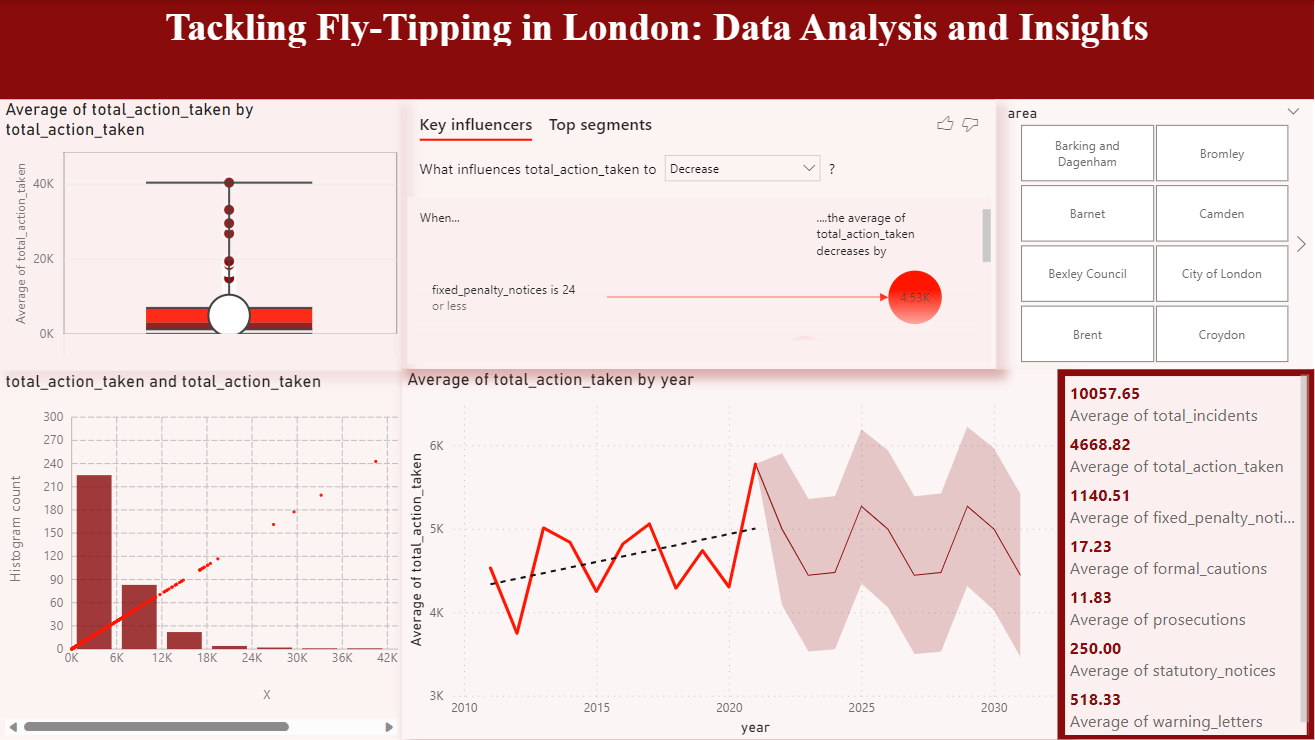

The page's visual inventory and layout, read from the dashboard file:
{"tool":"powerbi","page":{"name":"Dashboard","canvas":[1280,720],"ordinal":0},"visuals":[{"type":"BoxandWhiskerByMAQ1823AD39DT234AB532063E128AX","fields":{"measure":["Avg(fly-tipping-borough (2).total_action_taken)"],"category":["fly-tipping-borough (2).total_action_taken"]},"box":[0,96.4,391.4,264.3],"z":1000},{"type":"histogramXY6E3D5691159E41859A007A262D4B0E9E","fields":{"xAxis":["fly-tipping-borough (2).total_action_taken"],"yAxis":["fly-tipping-borough (2).total_action_taken"]},"box":[0,360.7,391.4,359.3],"z":2000},{"type":"lineChart","fields":{"Y":["Avg(fly-tipping-borough (2).total_action_taken)"],"Category":["fly-tipping-borough (2).year"]},"box":[391.4,359.3,645.5,360.7],"z":3000},{"type":"keyDriversVisual","fields":{"Target":["fly-tipping-borough (2).total_action_taken"],"ExplainBy":["fly-tipping-borough (2).total_incidents","fly-tipping-borough (2).prosecutions","fly-tipping-borough (2).statutory_notices","fly-tipping-borough (2).warning_letters","fly-tipping-borough (2).formal_cautions","fly-tipping-borough (2).fixed_penalty_notices"]},"box":[391.4,96.4,578.3,262.9],"z":4000},{"type":"multiRowCard","fields":{"Values":["Avg(fly-tipping-borough (2).total_incidents)","Avg(fly-tipping-borough (2).total_action_taken)","Avg(fly-tipping-borough (2).fixed_penalty_notices)","Avg(fly-tipping-borough (2).formal_cautions)","Avg(fly-tipping-borough (2).prosecutions)","Avg(fly-tipping-borough (2).statutory_notices)","Avg(fly-tipping-borough (2).warning_letters)"]},"box":[1029.6,359.3,249.7,360.7],"z":5000},{"type":"textbox","box":[0,0,1279.4,96.4],"z":6000},{"type":"slicer","fields":{"Values":["fly-tipping-borough (2).area"]},"box":[969,96,310,263],"z":6001}]}

Visuals, with their boxes in screenshot pixels (x1, y1, x2, y2), scaled from the page's 1280x720 canvas onto the 1315x740 screenshot:
BoxandWhiskerByMAQ1823AD39DT234AB532063E128AX - Avg(fly-tipping-borough (2).total_action_taken) x fly-tipping-borough (2).total_action_taken: {"left": 0, "top": 99, "right": 402, "bottom": 371}
histogramXY6E3D5691159E41859A007A262D4B0E9E - fly-tipping-borough (2).total_action_taken x fly-tipping-borough (2).total_action_taken: {"left": 0, "top": 371, "right": 402, "bottom": 739}
lineChart - Avg(fly-tipping-borough (2).total_action_taken) x fly-tipping-borough (2).year: {"left": 402, "top": 369, "right": 1065, "bottom": 739}
keyDriversVisual - fly-tipping-borough (2).total_action_taken x fly-tipping-borough (2).total_incidents: {"left": 402, "top": 99, "right": 996, "bottom": 369}
multiRowCard - Avg(fly-tipping-borough (2).total_incidents) x Avg(fly-tipping-borough (2).total_action_taken): {"left": 1058, "top": 369, "right": 1314, "bottom": 739}
textbox: {"left": 0, "top": 0, "right": 1314, "bottom": 99}
slicer - fly-tipping-borough (2).area: {"left": 995, "top": 99, "right": 1314, "bottom": 369}
